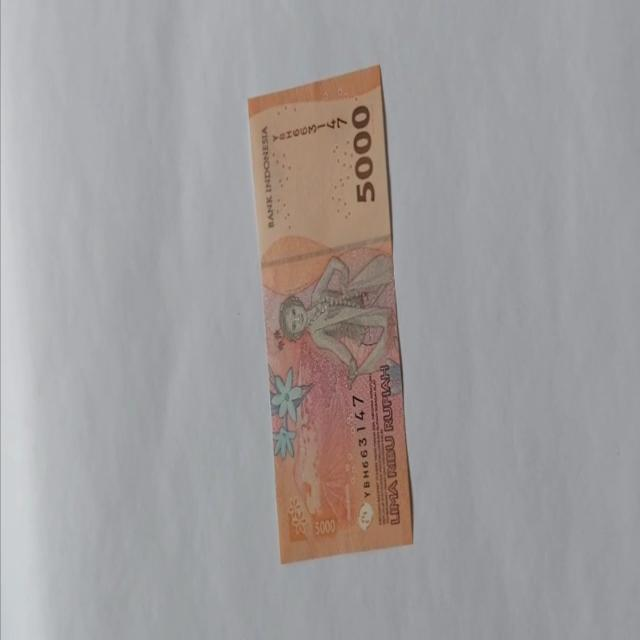lima ribu rupiah: (246, 63, 414, 565)
